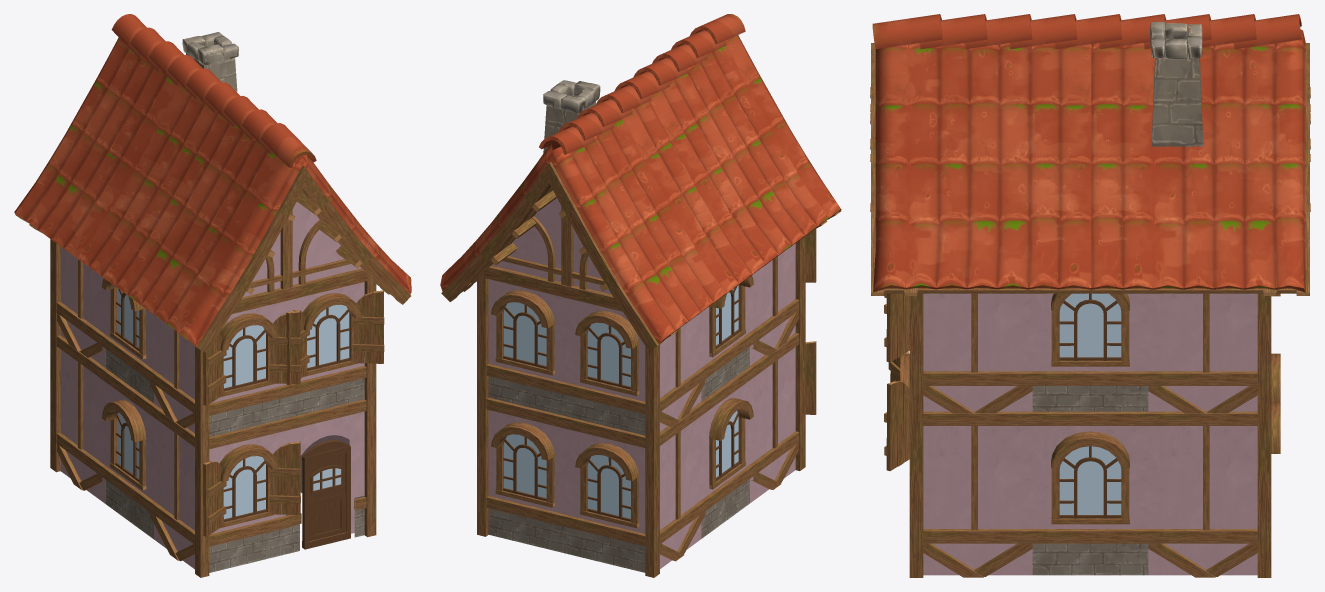
Rendered from house_pink.glb.
The picture shows the model from 3 angles, left to right: view 1: azimuth 30°, elevation 25°; view 2: azimuth 150°, elevation 25°; view 3: azimuth 270°, elevation 25°; orthographic projection. The views are drawn at different scales.
Visible parts, largest first — view 1: Wall_Plaster_Window_Wide_Round, Roof_RoundTiles_4x6, Corner_Exterior_Wood, Window_Wide_Round1, Roof_Front_Brick4, Prop_Chimney, Wall_Plaster_Door_Round; view 2: Wall_Plaster_Window_Wide_Round, Roof_RoundTiles_4x6, Corner_Exterior_Wood, Window_Wide_Round1, Roof_Front_Brick4, Prop_Chimney; view 3: Roof_RoundTiles_4x6, Wall_Plaster_Window_Wide_Round, Corner_Exterior_Wood, Window_Wide_Round1, Prop_Chimney.
Part boxes in pixels (box(x1,y1,x2,y2)): Wall_Plaster_Window_Wide_Round: box(15, 165, 410, 572); Roof_RoundTiles_4x6: box(14, 14, 411, 346); Corner_Exterior_Wood: box(50, 194, 376, 577); Window_Wide_Round1: box(117, 288, 349, 519); Roof_Front_Brick4: box(243, 201, 361, 297); Prop_Chimney: box(182, 32, 238, 92); Wall_Plaster_Door_Round: box(285, 496, 364, 554); Wall_Plaster_Window_Wide_Round: box(441, 162, 841, 572); Roof_RoundTiles_4x6: box(440, 14, 841, 344); Corner_Exterior_Wood: box(477, 190, 805, 577); Window_Wide_Round1: box(504, 285, 738, 518); Roof_Front_Brick4: box(492, 198, 611, 294); Prop_Chimney: box(543, 80, 600, 153); Roof_RoundTiles_4x6: box(872, 14, 1305, 292); Wall_Plaster_Window_Wide_Round: box(871, 43, 1309, 577); Corner_Exterior_Wood: box(870, 87, 1310, 577); Window_Wide_Round1: box(1059, 293, 1121, 514); Prop_Chimney: box(1150, 21, 1203, 147).
Bounding box in the file's own units: 5.51 × 9.78 × 7.59.
Materials: 6 (5 with a texture image).
